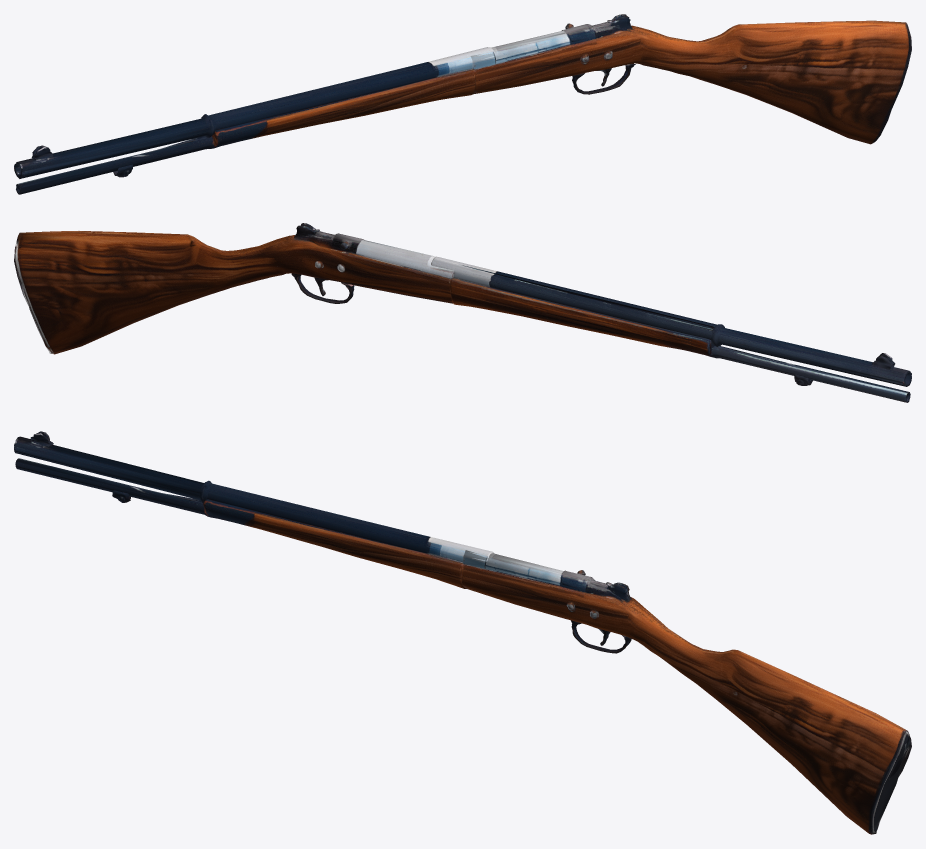
The model's file is rifle.glb.
The picture shows the model from 3 angles, top to bottom: view 1: azimuth 30°, elevation 25°; view 2: azimuth 150°, elevation 25°; view 3: azimuth 330°, elevation 25°; orthographic projection.
Size of the model in its own units: 1 by 0.2168 by 0.0405.
1 material, 1 textured.
